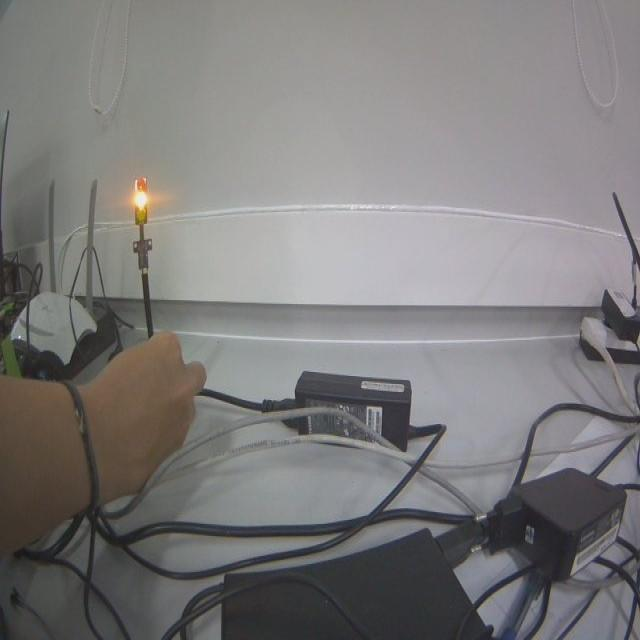Lampu Kuning: (133, 176, 149, 227)
